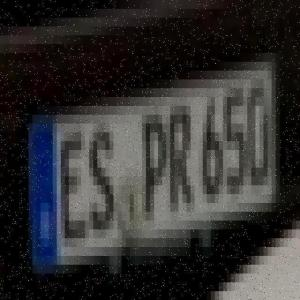Plate: (21, 60, 282, 291)
